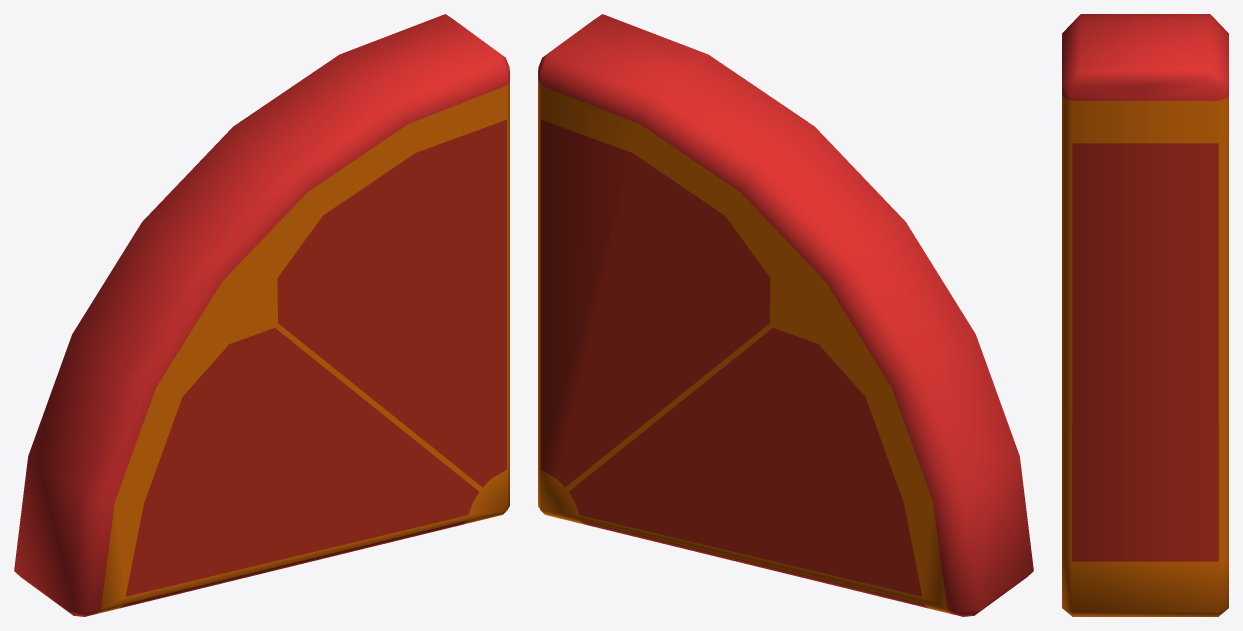
Rendered from Quarter_of_a_orange.fbx.
3 renders of one model, left to right at view 1: azimuth 30°, elevation 25°; view 2: azimuth 150°, elevation 25°; view 3: azimuth 270°, elevation 25°, orthographic. The views are drawn at different scales.
Visible parts, largest first — view 1: Quarter_of_a_orange; view 2: Quarter_of_a_orange; view 3: Quarter_of_a_orange.
Part boxes in pixels (x1,y1,x2,y2): Quarter_of_a_orange: (14, 14, 509, 616); Quarter_of_a_orange: (538, 14, 1033, 616); Quarter_of_a_orange: (1062, 14, 1228, 616).
Size of the model in its own units: 62.68 by 62.72 by 17.19.
